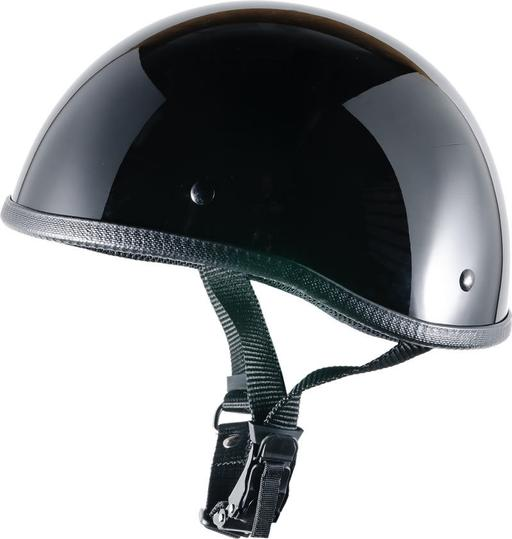with_helmet: (1, 1, 512, 357)
